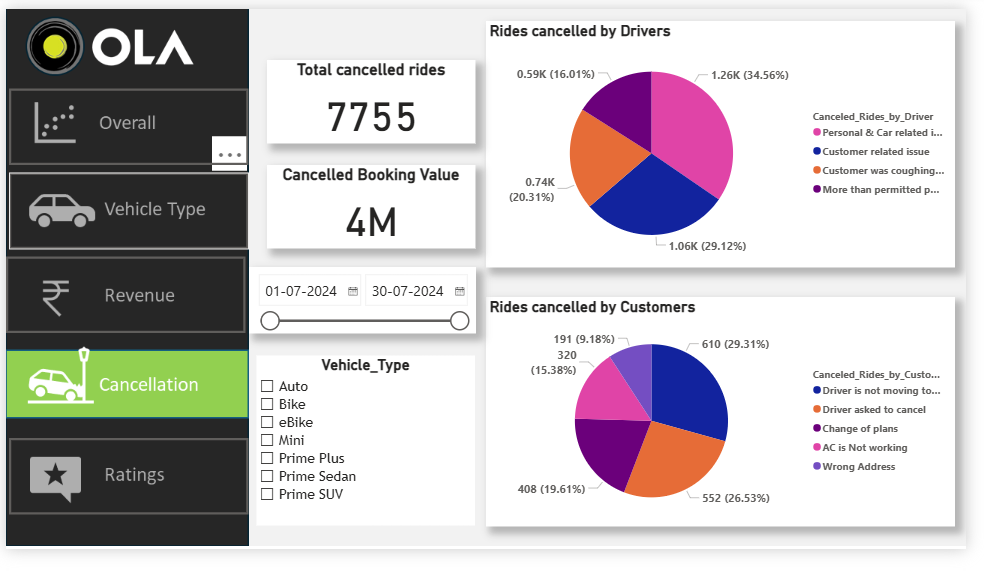

The dashboard page shown, as its layout file describes it:
{"tool":"powerbi","page":{"name":"Cancellation","canvas":[1280,720],"ordinal":3},"visuals":[{"type":"pieChart","title":"Rides cancelled by Drivers","fields":{"Category":["July.Canceled_Rides_by_Driver"],"Y":["CountNonNull(July.Booking_Status)"]},"box":[640.6,15.1,625.5,328.8],"z":0},{"type":"pieChart","title":"Rides cancelled by Customers","fields":{"Category":["July.Canceled_Rides_by_Customer"],"Y":["CountNonNull(July.Booking_Status)"]},"box":[640.6,383.6,625.5,306.1],"z":1},{"type":"card","title":"Total cancelled rides","fields":{"Values":["CountNonNull(July.Booking_ID)"]},"box":[347.7,68,277.8,111.5],"z":2},{"type":"card","title":"Cancelled Booking Value","fields":{"Values":["Sum(July.Booking_Value)"]},"box":[347.7,207.9,277.8,111.5],"z":3},{"type":"slicer","fields":{"Values":["July.Date"]},"box":[323.2,343.9,302.4,88.8],"z":4},{"type":"listSlicer","fields":{"Values":["July.Vehicle_Type"]},"box":[334.5,463,291,226.8],"z":5},{"type":"actionButton","box":[3.8,572.6,319.4,102],"z":6},{"type":"actionButton","box":[0,330.7,319.4,102],"z":7},{"type":"actionButton","box":[3.8,217.3,319.4,102],"z":8},{"type":"actionButton","box":[3.8,105.8,319.4,102],"z":9}]}

Visuals, with their boxes on the page's 1280x720 design canvas (x1, y1, x2, y2). These are canvas units, not pixel positions in the 984x582 screenshot, which may show the page scaled, cropped or inside an application window:
"Rides cancelled by Drivers" pieChart: [641, 15, 1266, 344]
"Rides cancelled by Customers" pieChart: [641, 384, 1266, 690]
"Total cancelled rides" card: [348, 68, 626, 180]
"Cancelled Booking Value" card: [348, 208, 626, 319]
slicer - July.Date: [323, 344, 626, 433]
listSlicer - July.Vehicle_Type: [334, 463, 626, 690]
actionButton: [4, 573, 323, 675]
actionButton: [0, 331, 319, 433]
actionButton: [4, 217, 323, 319]
actionButton: [4, 106, 323, 208]
